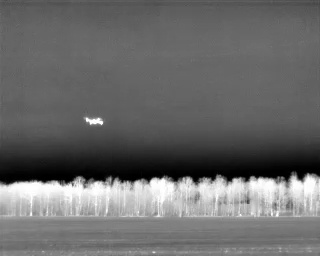DRONE: (80, 112, 108, 131)
